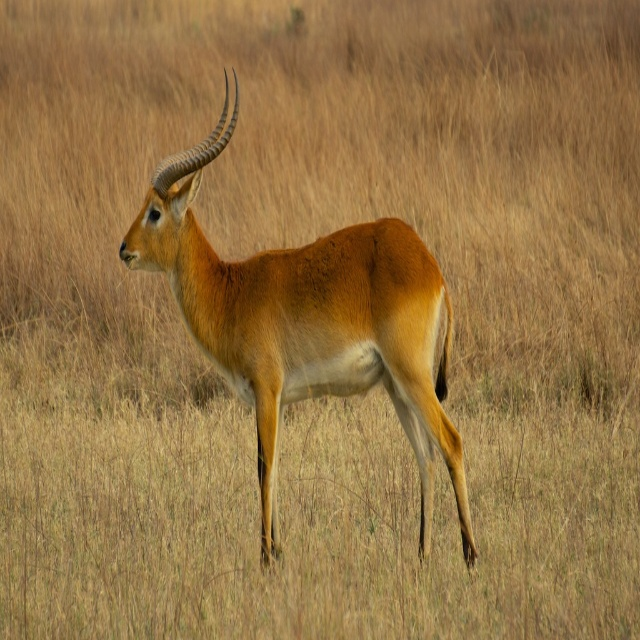Deer: (119, 66, 482, 583)
